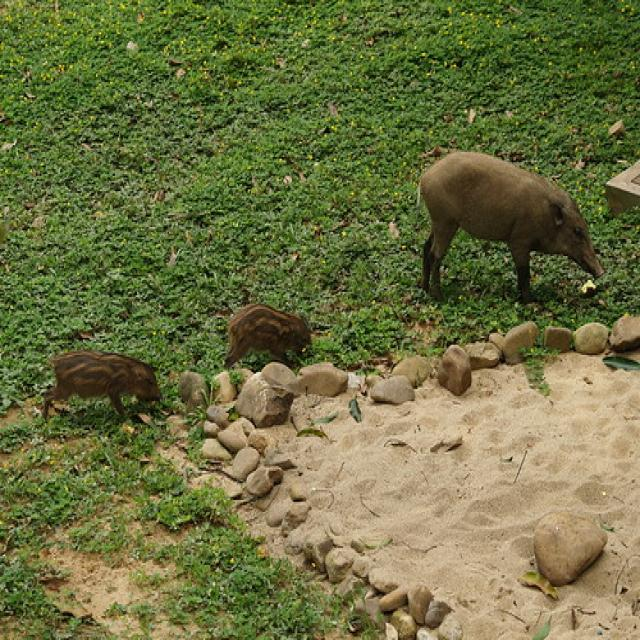boar: (392, 134, 608, 325), (33, 336, 180, 445), (211, 292, 323, 375)
